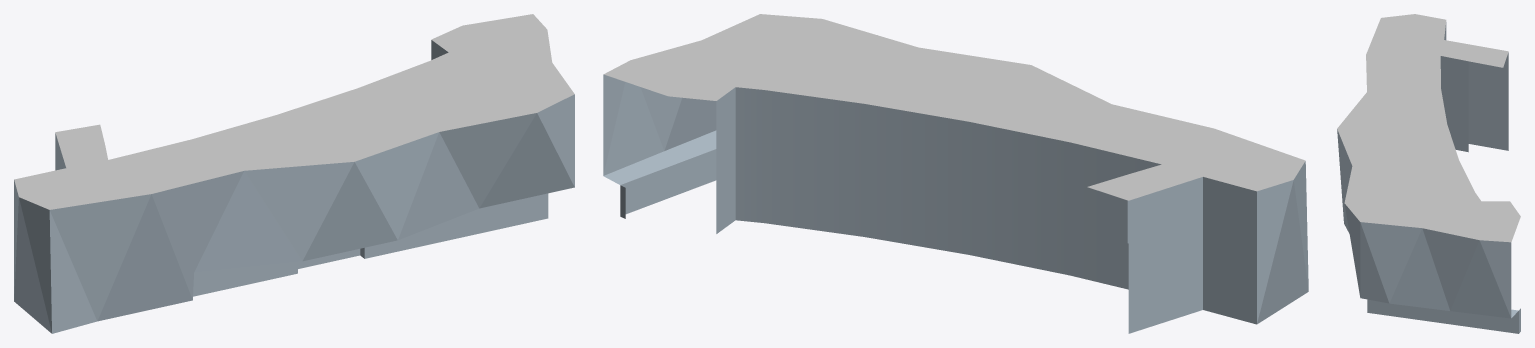
3 renders of one model, left to right at view 1: azimuth 30°, elevation 25°; view 2: azimuth 150°, elevation 25°; view 3: azimuth 270°, elevation 25°, orthographic. The views are drawn at different scales.
Visible parts, largest first — view 1: 70030076432380265lod; view 2: 70030076432380265lod; view 3: 70030076432380265lod.
Boxes of the visible parts, x1=… form: 70030076432380265lod: x1=14, y1=14, x2=574, y2=333; 70030076432380265lod: x1=603, y1=14, x2=1308, y2=333; 70030076432380265lod: x1=1337, y1=14, x2=1520, y2=333.
Size of the model in its own units: 93.99 by 19.1 by 31.95.
1 material, 1 textured.
